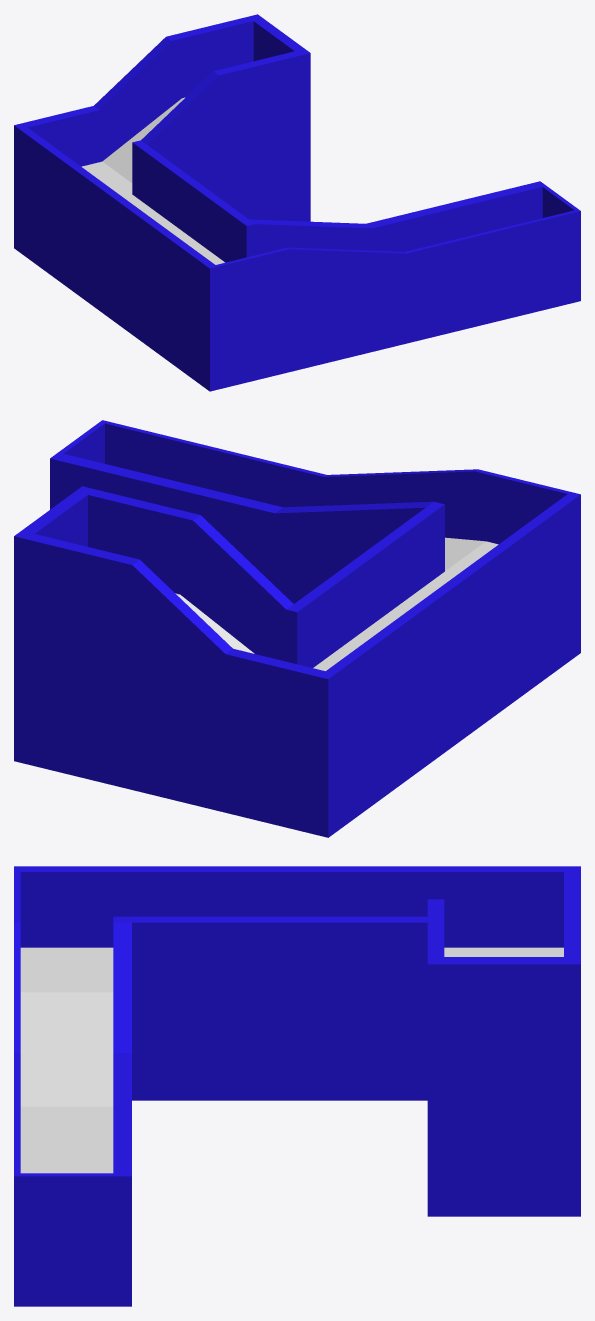
The model's file is land.fbx.
3 renders of one model, top to bottom at view 1: azimuth 30°, elevation 25°; view 2: azimuth 150°, elevation 25°; view 3: azimuth 270°, elevation 25°, orthographic. The views are drawn at different scales.
Visible parts, largest first — view 1: Cube, Cube.001; view 2: Cube, Cube.001; view 3: Cube, Cube.001.
Part boxes in pixels (x1,y1,x2,y2): Cube: (14, 14, 580, 391); Cube.001: (81, 97, 224, 264); Cube: (14, 420, 580, 837); Cube.001: (175, 537, 498, 670); Cube: (14, 866, 580, 1306); Cube.001: (20, 947, 563, 1173).
Size of the model in its own units: 13562 by 6092 by 12399.
